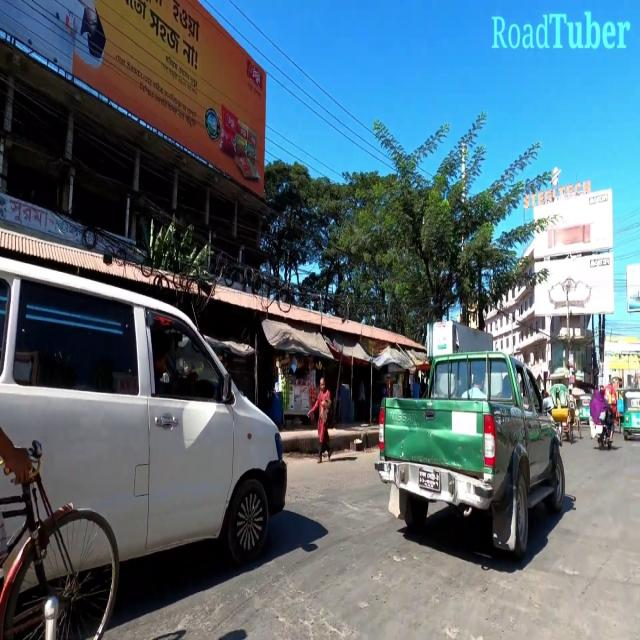white: (0, 240, 290, 592)
